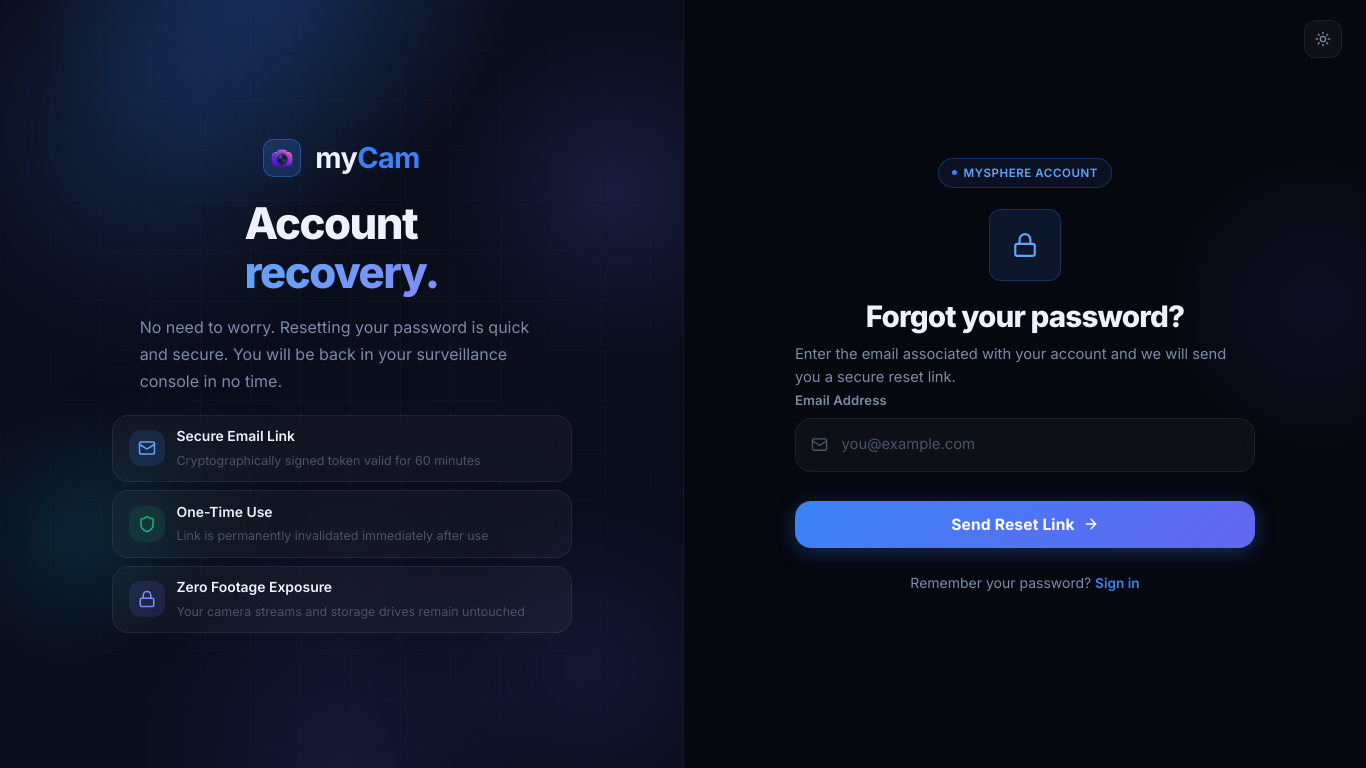
Test case: auth screens render without React console errors › ForgotPassword success state (contains an SVG) is also clean
Type "a@b.co" into the field with id "forgot-email" at (1025, 445), box [795,418,1255,472]
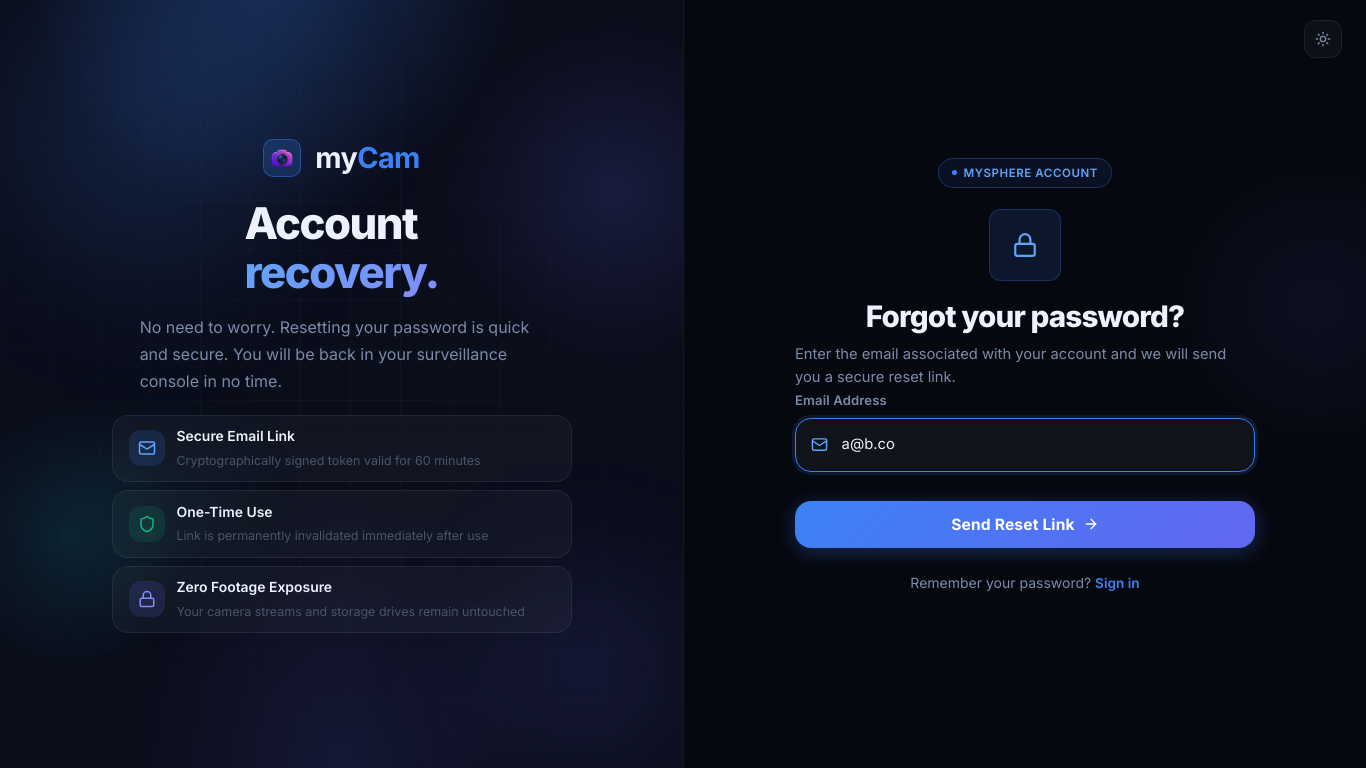
Click the button with aria-label "send password reset link" at (1025, 524), box [795,501,1255,548]
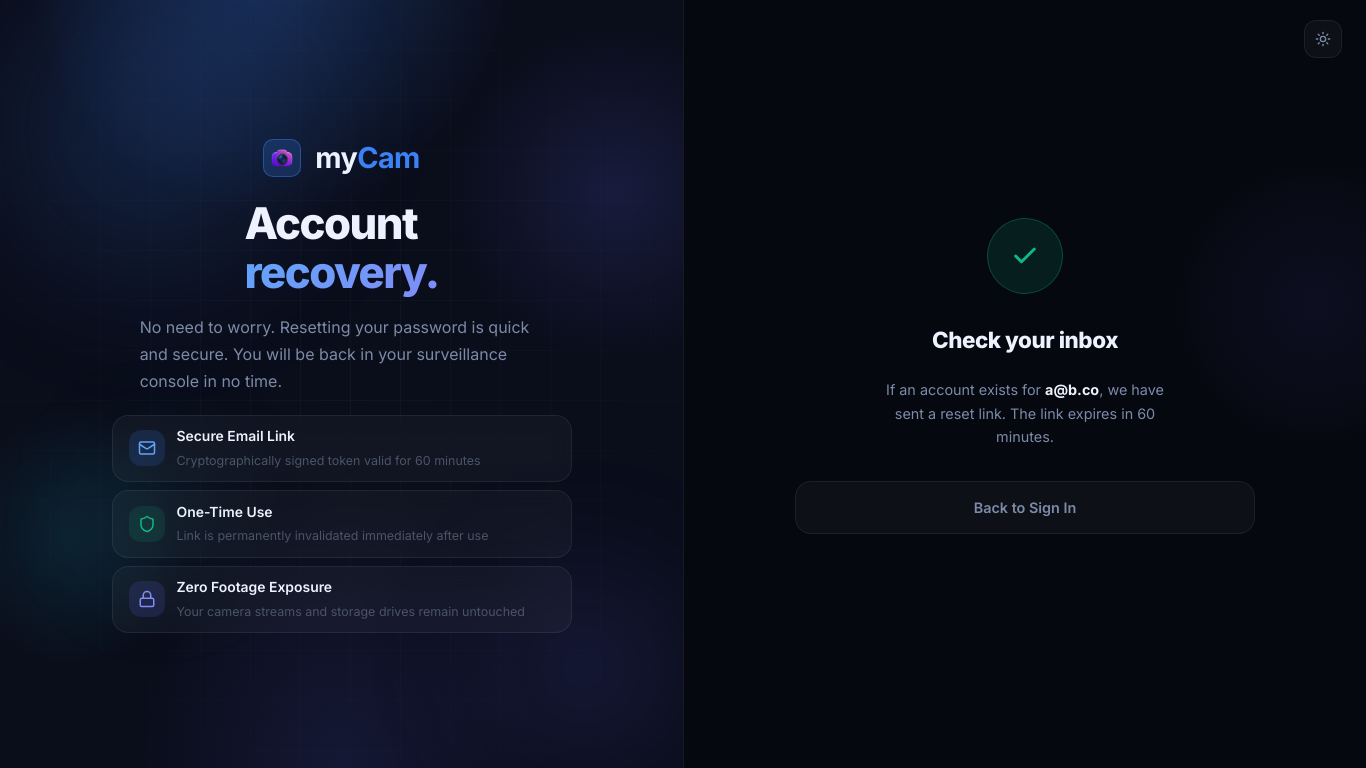
Expected: the heading "Check your inbox" is shown, [932,322,1118,358]
